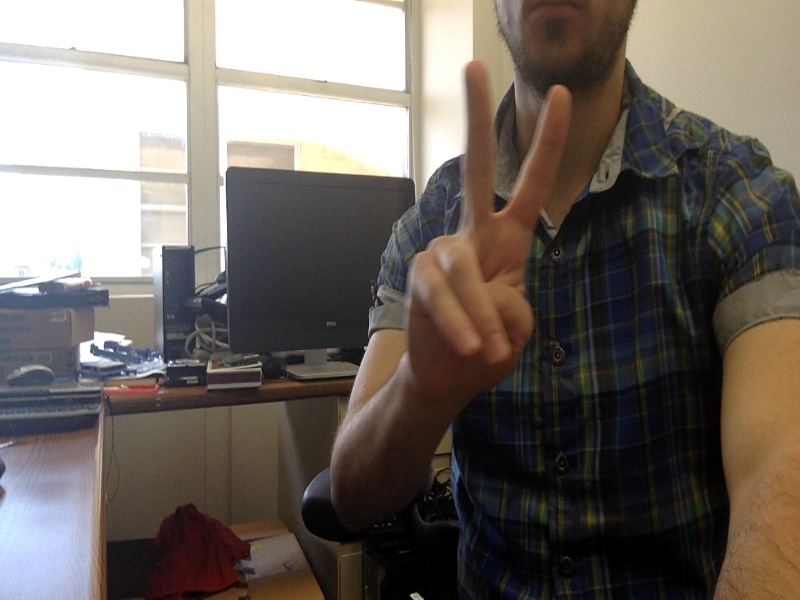2-hand: (401, 62, 576, 406)
